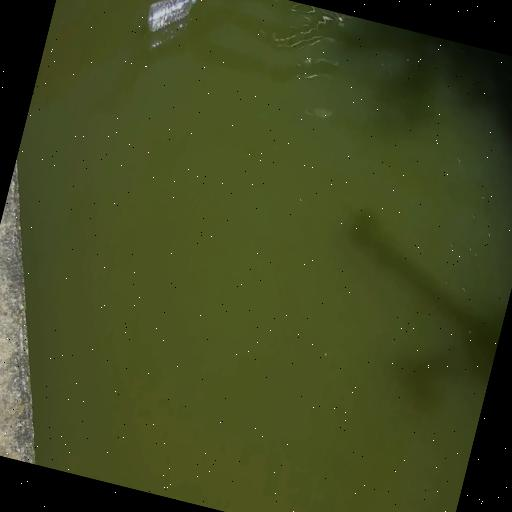plastic: (142, 0, 201, 43)
